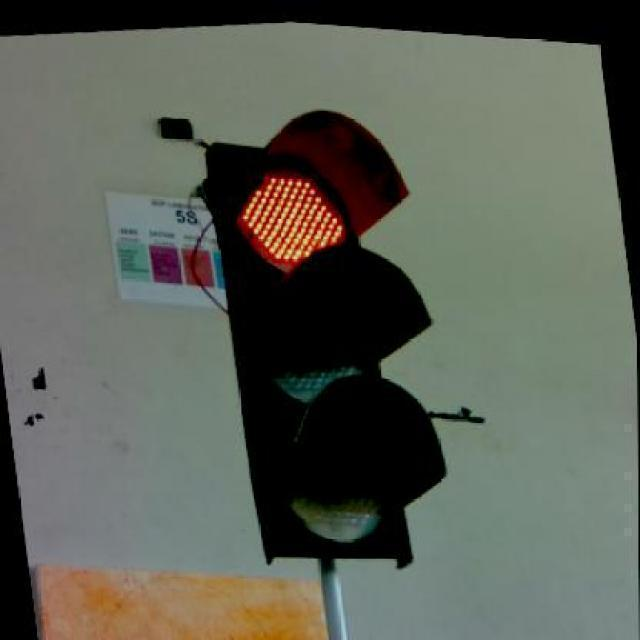red_light: (200, 109, 444, 565)
